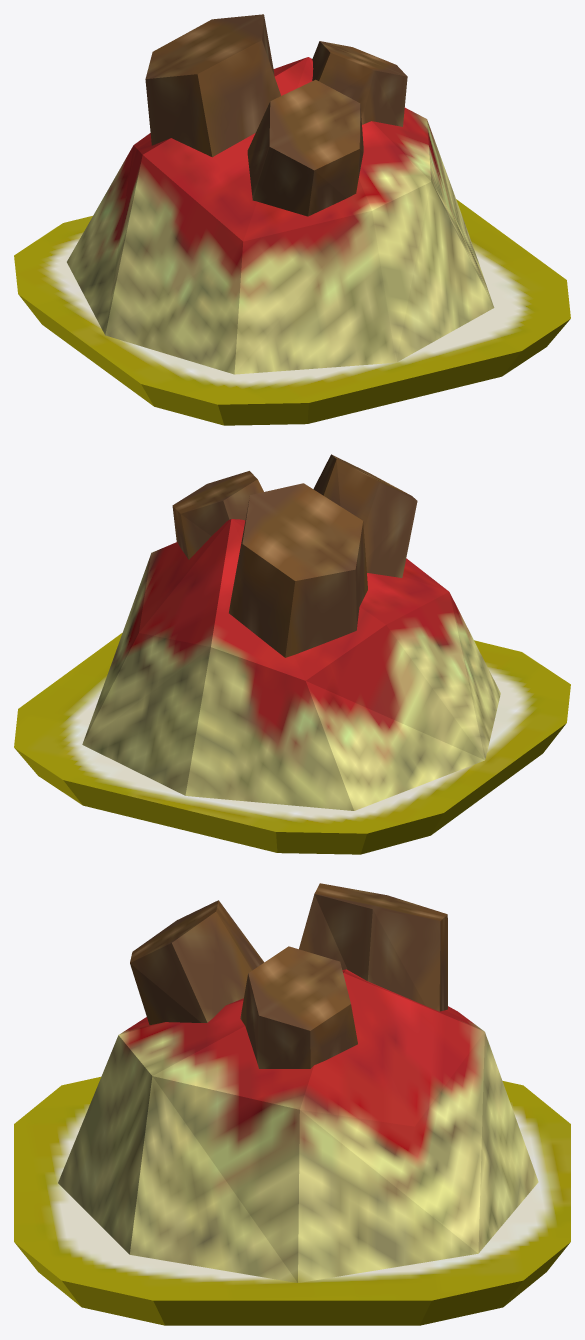
The model's file is obj_Boulette.obj.
3 renders of one model, top to bottom at view 1: azimuth 30°, elevation 25°; view 2: azimuth 150°, elevation 25°; view 3: azimuth 270°, elevation 25°, orthographic. The views are drawn at different scales.
Visible parts, largest first — view 1: Mesh_0029; view 2: Mesh_0029; view 3: Mesh_0029.
Boxes of the visible parts, box(x1,y1,x2,y2) form: Mesh_0029: box(14, 14, 570, 425); Mesh_0029: box(14, 454, 570, 854); Mesh_0029: box(14, 883, 570, 1325).
Bounding box in the file's own units: 0.4284 × 0.2656 × 0.4284.
